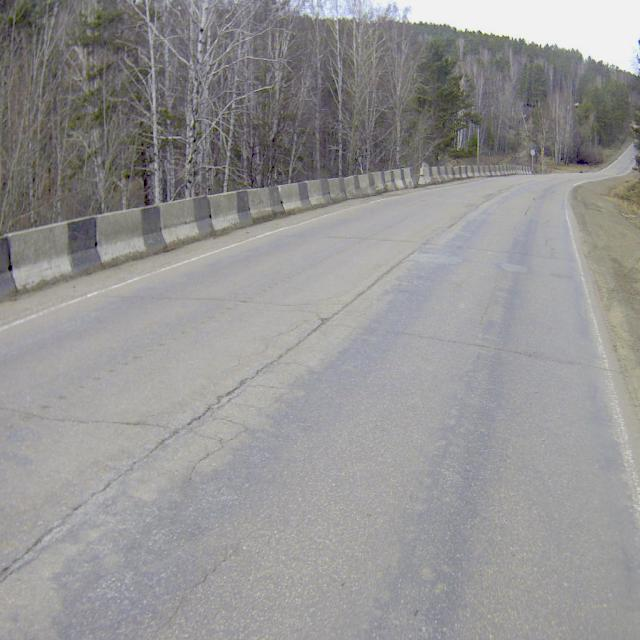road: (0, 142, 640, 639)
